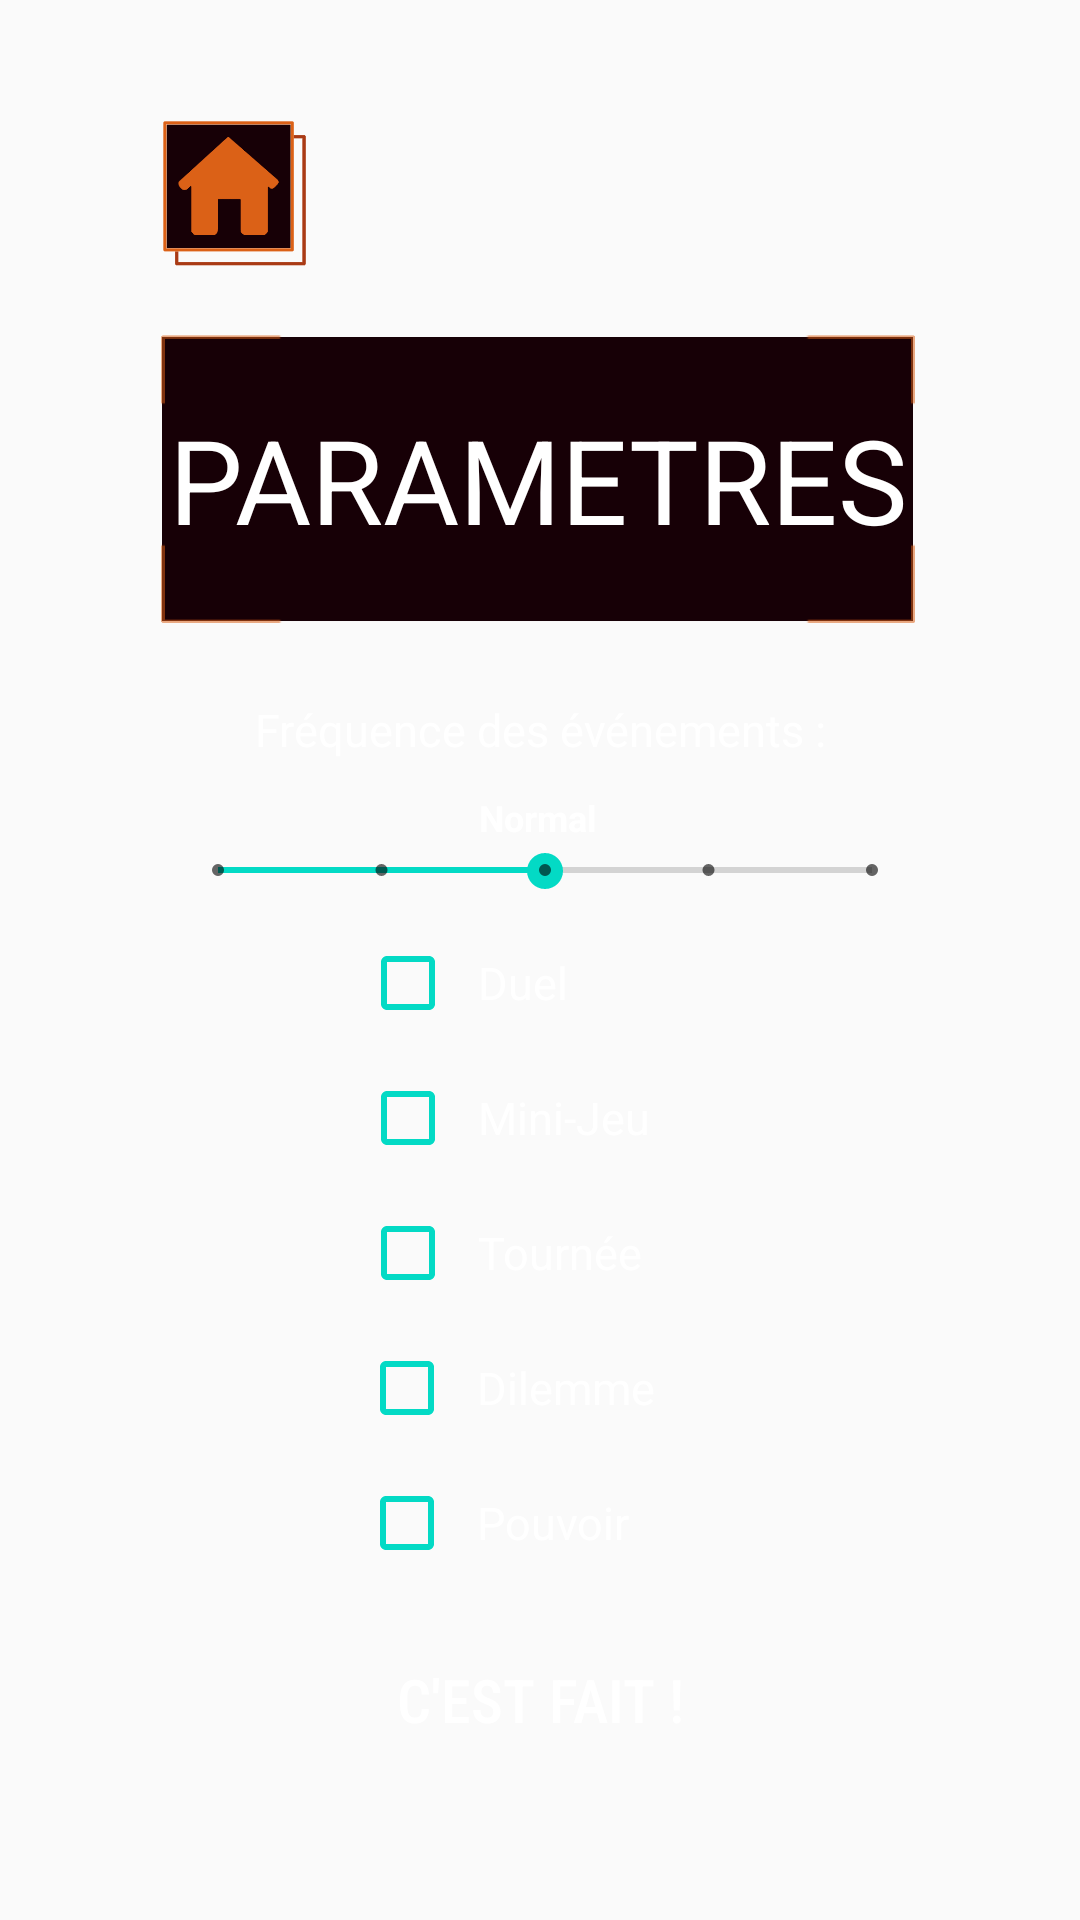

Icons on this 1080px×1920px Android screen, each with its box as (x1, y1, x2, y2):
homebutton: (163, 121, 306, 266)
